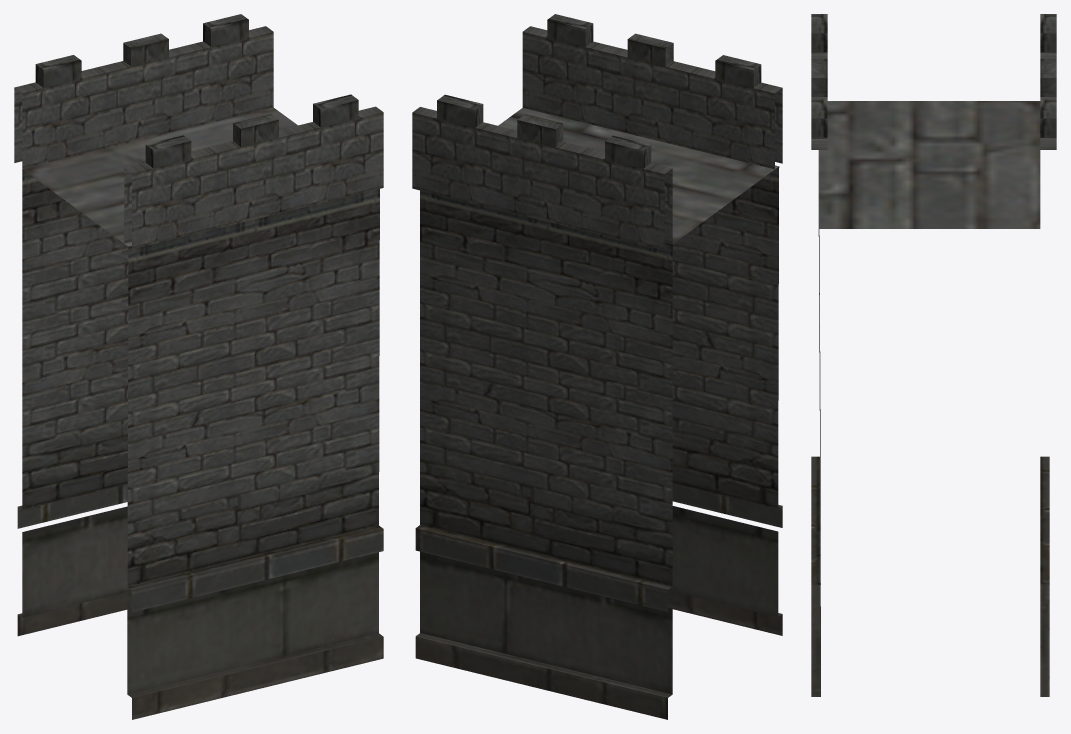
File: s7_fightpve_chengqiang01.FBX
3 renders of one model, left to right at view 1: azimuth 30°, elevation 25°; view 2: azimuth 150°, elevation 25°; view 3: azimuth 270°, elevation 25°, orthographic. The views are drawn at different scales.
Visible parts, largest first — view 1: Object01; view 2: Object01; view 3: Object01.
Boxes of the visible parts, <box> form: Object01: <box>14,14,383,719</box>; Object01: <box>412,14,782,719</box>; Object01: <box>811,14,1056,696</box>.
Size of the model in its own units: 694 by 1489 by 563.
